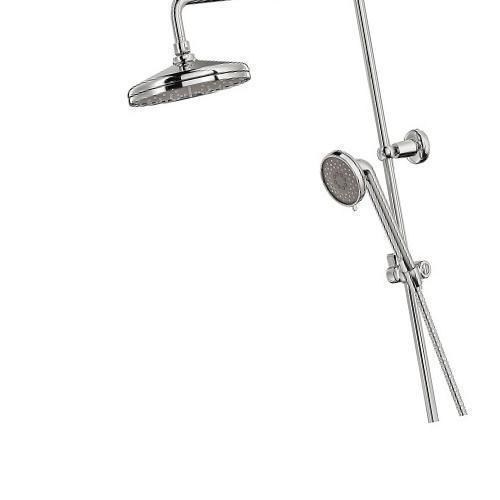Ducha: (120, 0, 479, 433)
